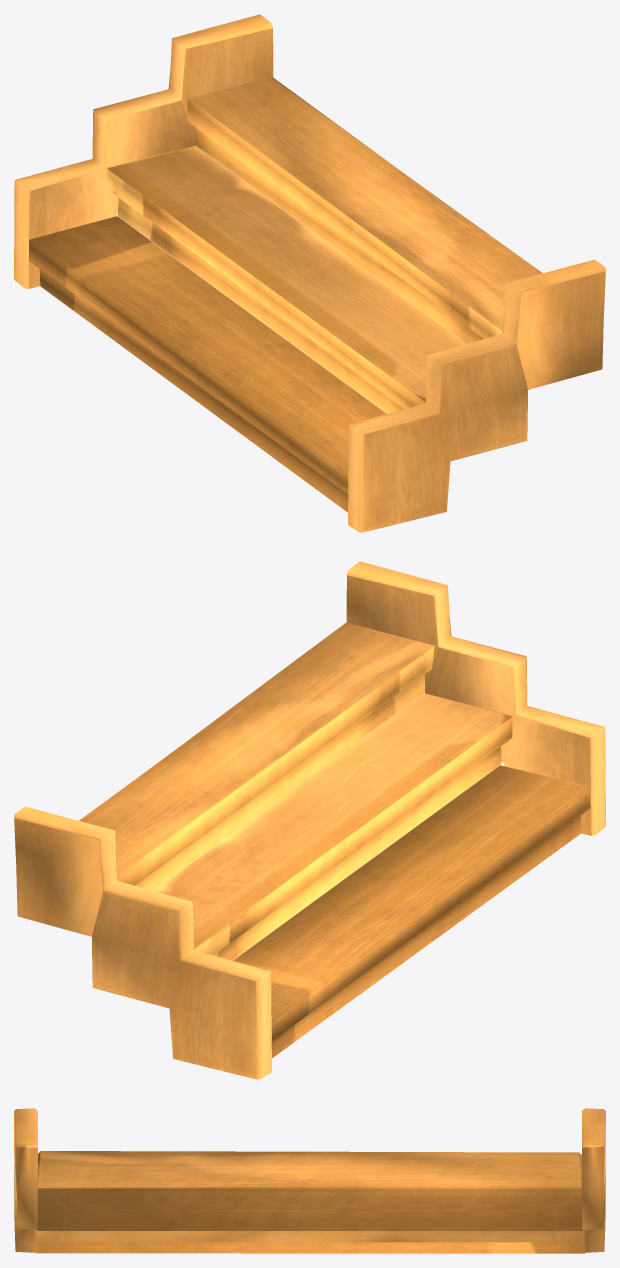
File: SM_Stylized_StepsA.fbx
The picture shows the model from 3 angles, top to bottom: view 1: azimuth 30°, elevation 25°; view 2: azimuth 150°, elevation 25°; view 3: azimuth 270°, elevation 25°; orthographic projection. The views are drawn at different scales.
Parts seen in each view (by area): view 1: SM_Stylized_StepsA_LOD0; view 2: SM_Stylized_StepsA_LOD0; view 3: SM_Stylized_StepsA_LOD0.
Boxes of the visible parts, x1,y1,x2,y2 form: SM_Stylized_StepsA_LOD0: (14, 14, 605, 532); SM_Stylized_StepsA_LOD0: (14, 561, 605, 1079); SM_Stylized_StepsA_LOD0: (14, 1108, 605, 1253).
Bounding box in the file's own units: 122 × 299 × 97.26.
